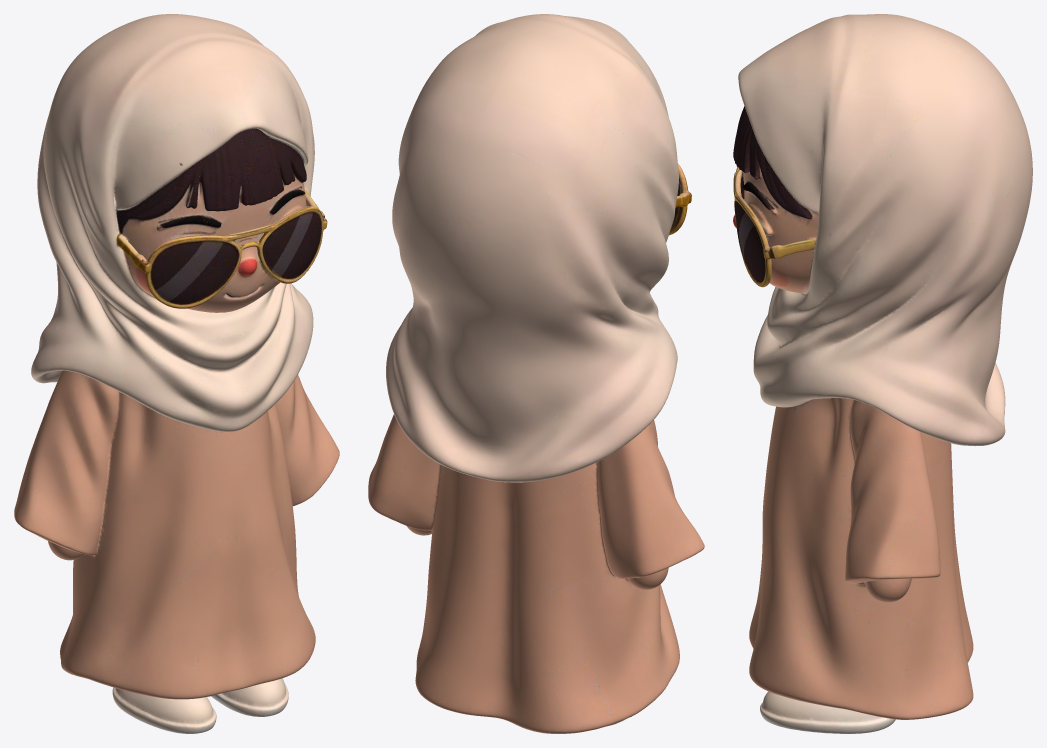
The model's file is aisha-cool-glasses.glb.
3 views of the same model, side by side, from view 1: azimuth 30°, elevation 25°; view 2: azimuth 150°, elevation 25°; view 3: azimuth 270°, elevation 25° (orthographic). The views are drawn at different scales.
Size of the model in its own units: 0.9584 by 1.9 by 0.7678.
Materials: 1 (1 with a texture image).
